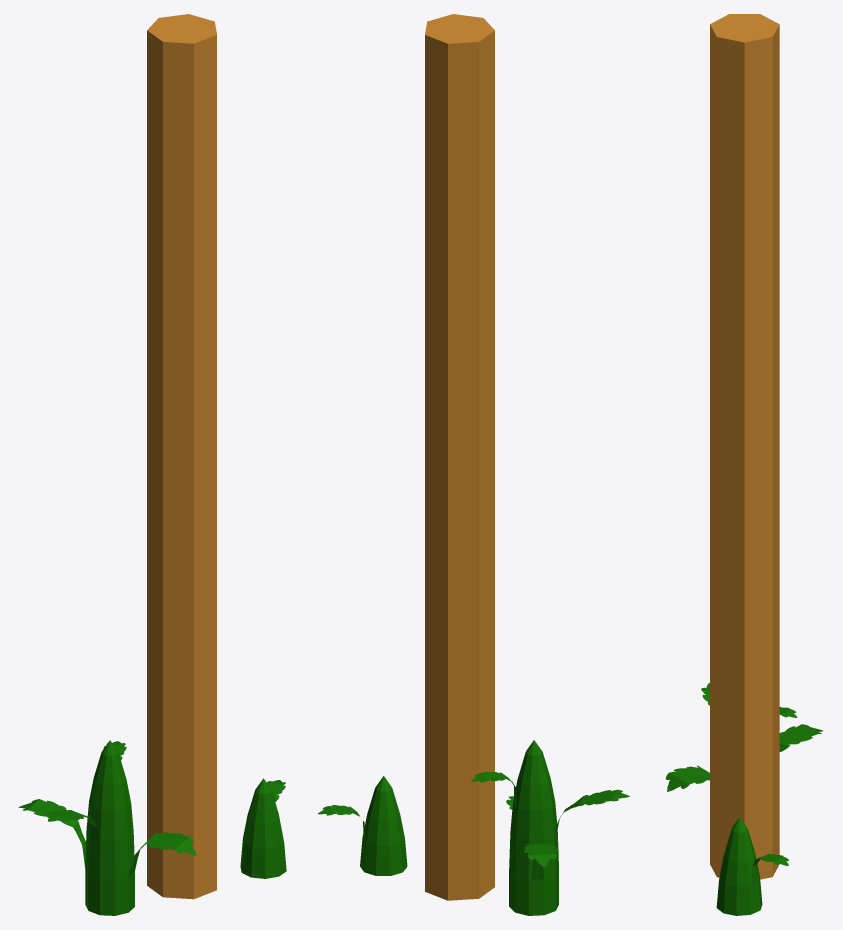
The model's file is Baby_Tomato.fbx.
3 renders of one model, left to right at view 1: azimuth 30°, elevation 25°; view 2: azimuth 150°, elevation 25°; view 3: azimuth 270°, elevation 25°, orthographic.
Parts seen in each view (by area): view 1: Baby_Tomatos; view 2: Baby_Tomatos; view 3: Baby_Tomatos.
Boxes of the visible parts, left/top/right/bottom form: Baby_Tomatos: left=18, top=14, right=286, bottom=915; Baby_Tomatos: left=318, top=14, right=629, bottom=915; Baby_Tomatos: left=665, top=14, right=822, bottom=915.
Bounding box in the file's own units: 40.52 × 119 × 21.5.
1 material, 1 textured.
